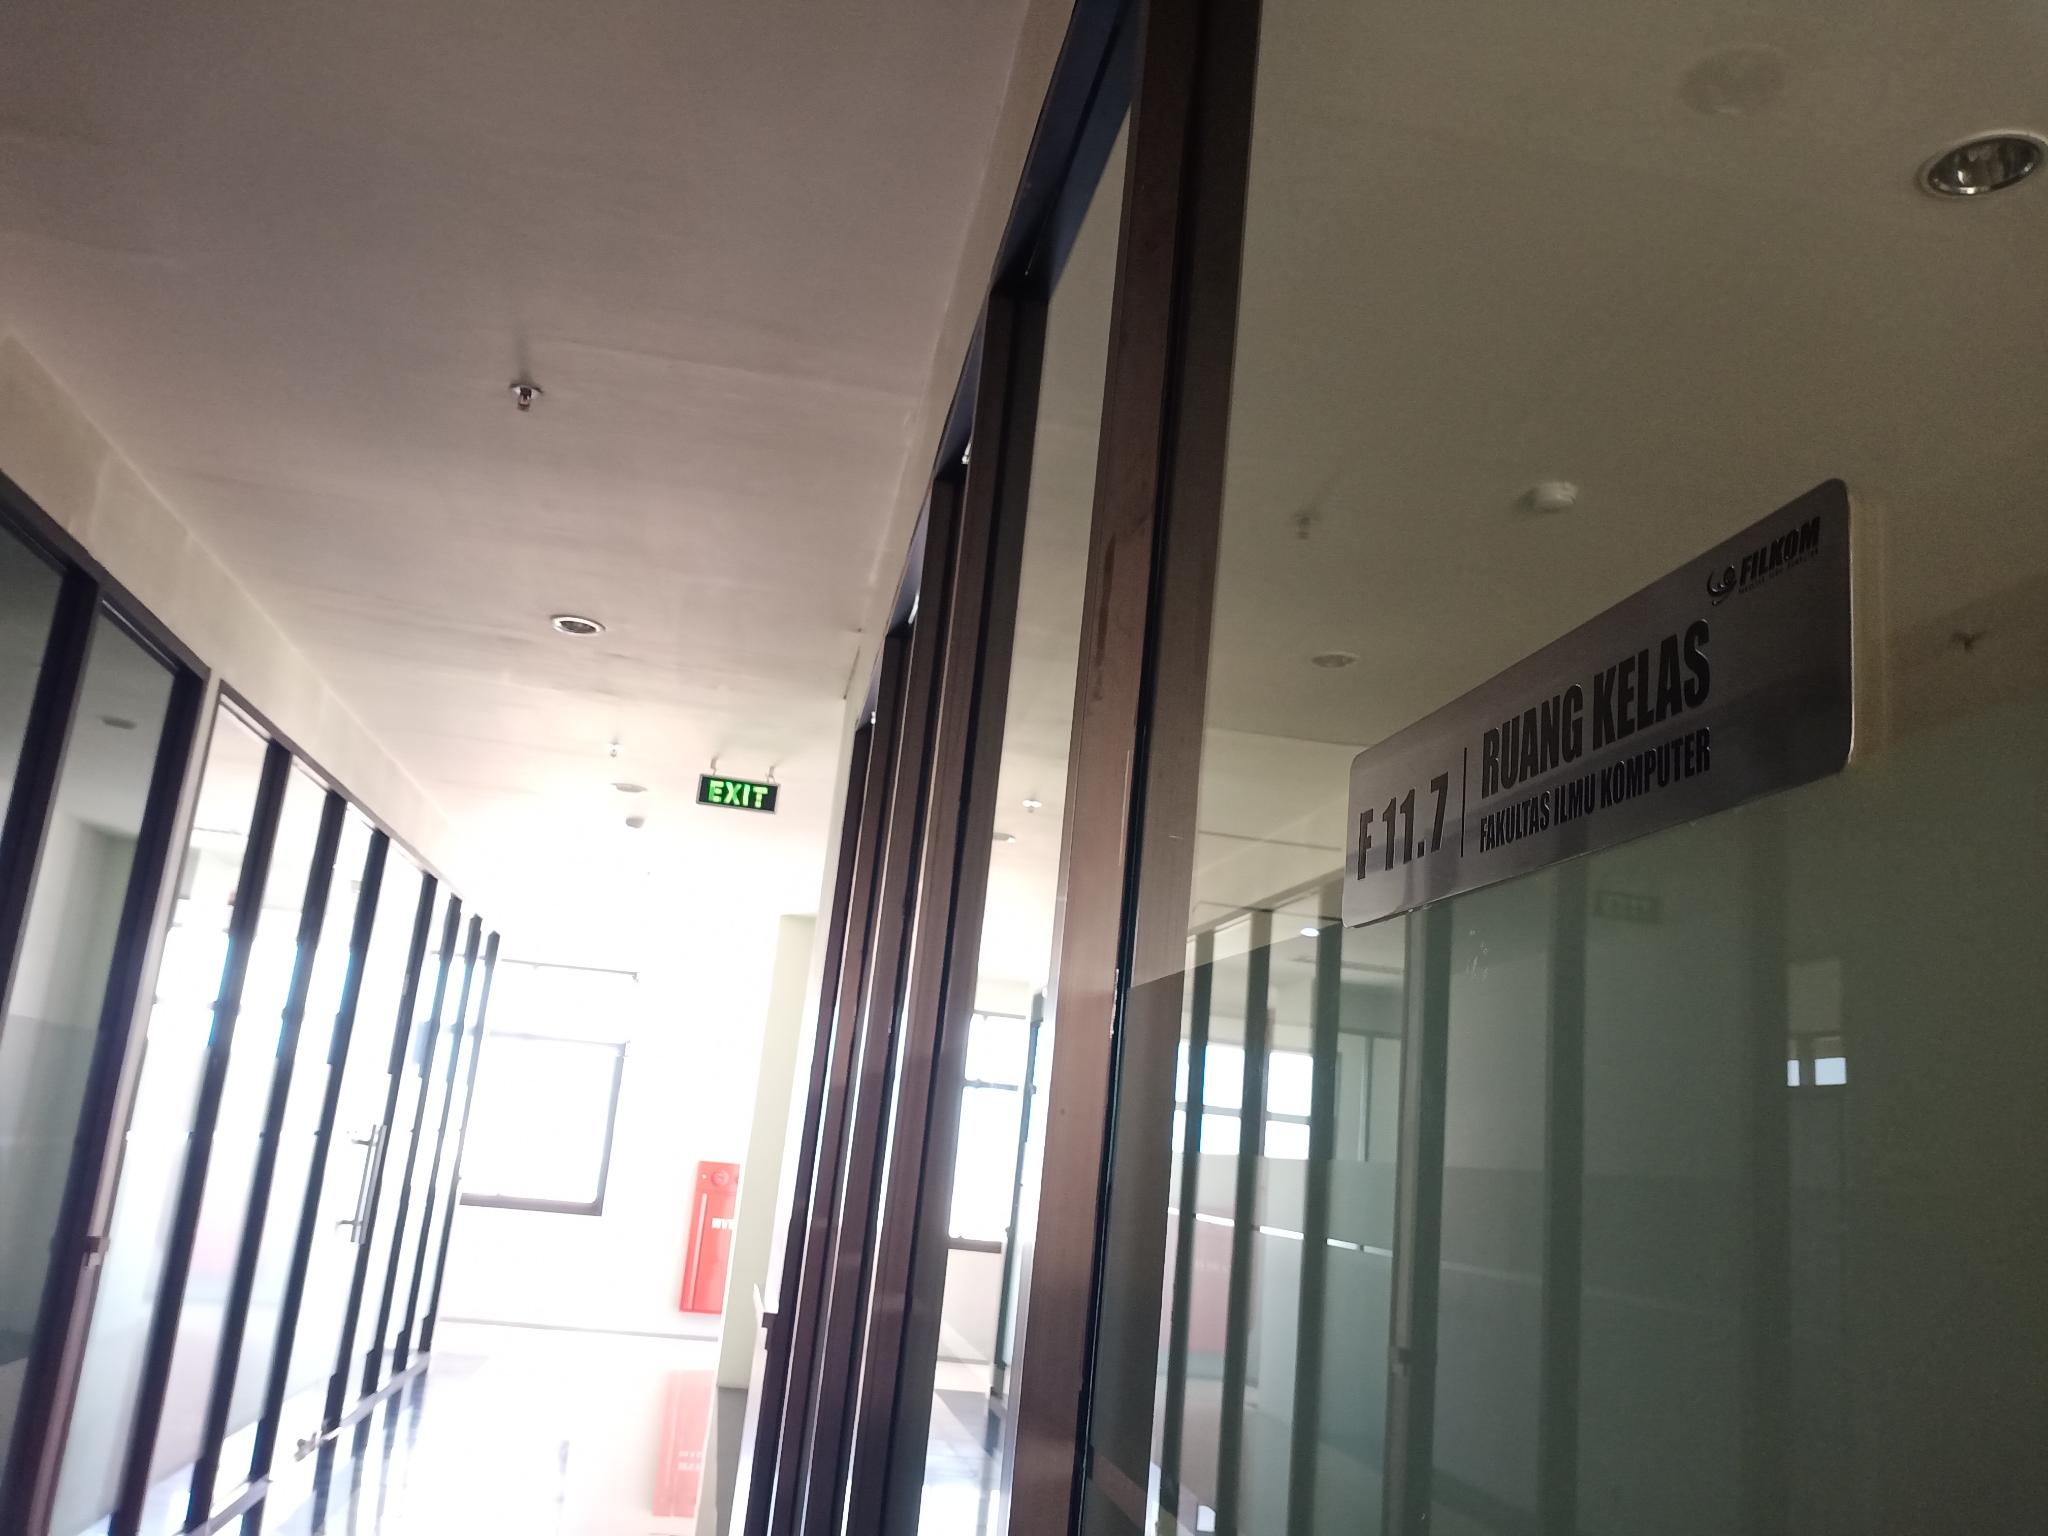plate: (1335, 474, 1858, 934)
